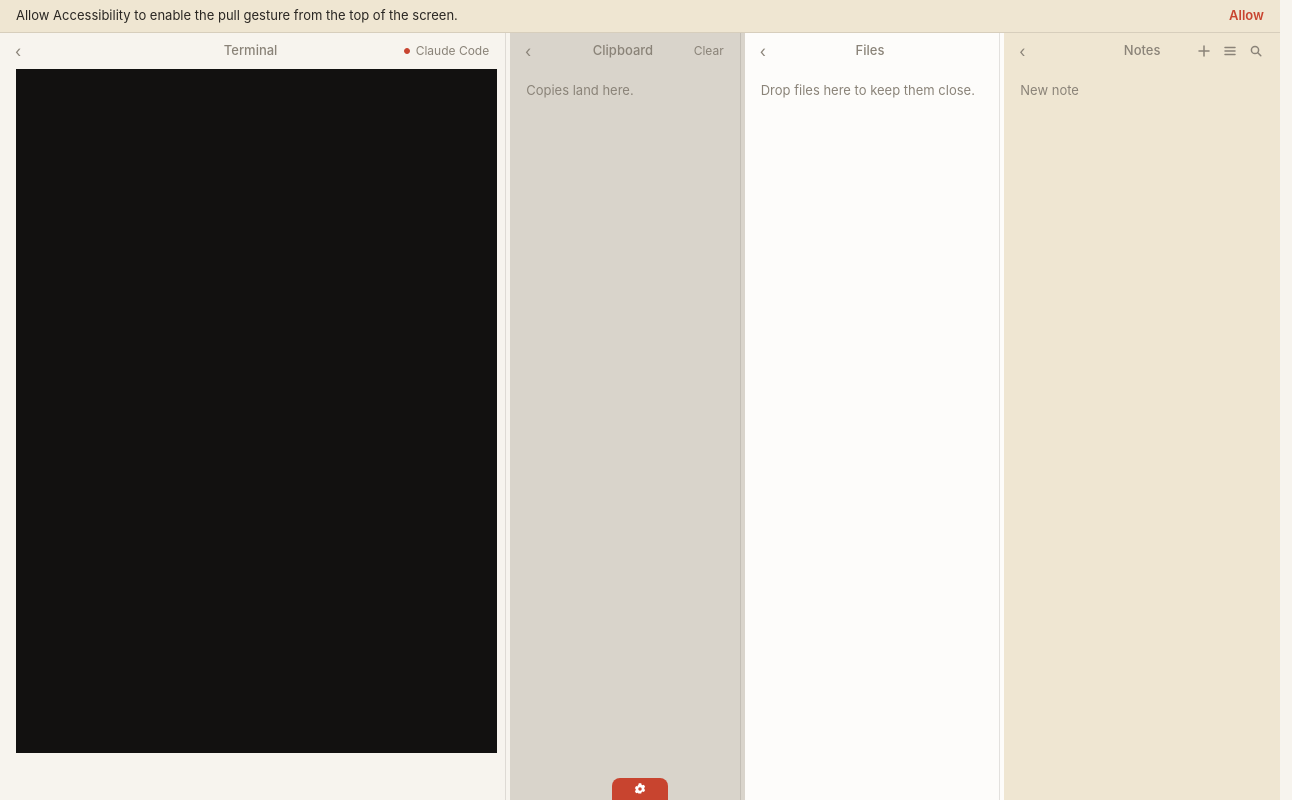
it: loading › shows the Accessibility banner only while the gesture is not trusted
Expected: the text "Allow Accessibility to enable the pull gesture" is shown, [16,7,458,23]
Click the button "Allow" at (1247, 16), box [1229,6,1264,26]
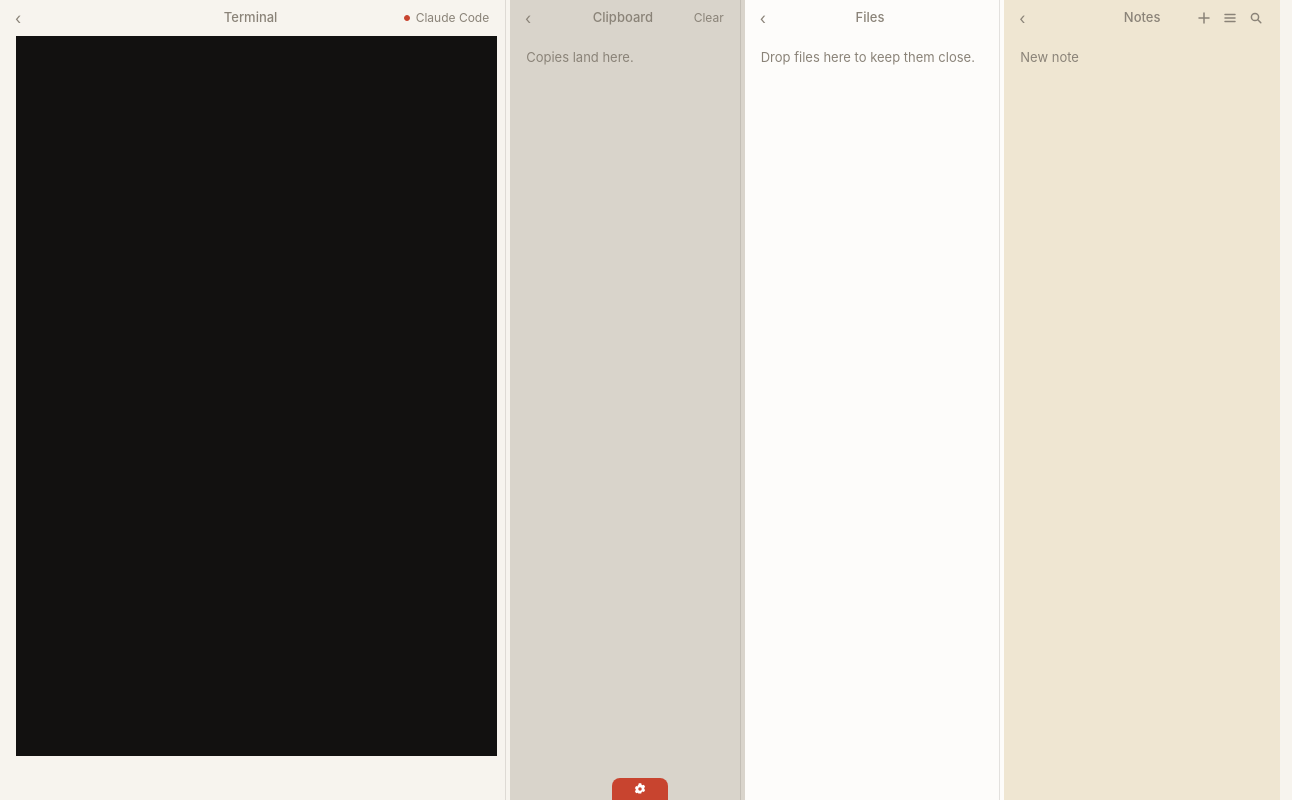
Now the text "Allow Accessibility to enable the pull gesture" is gone
